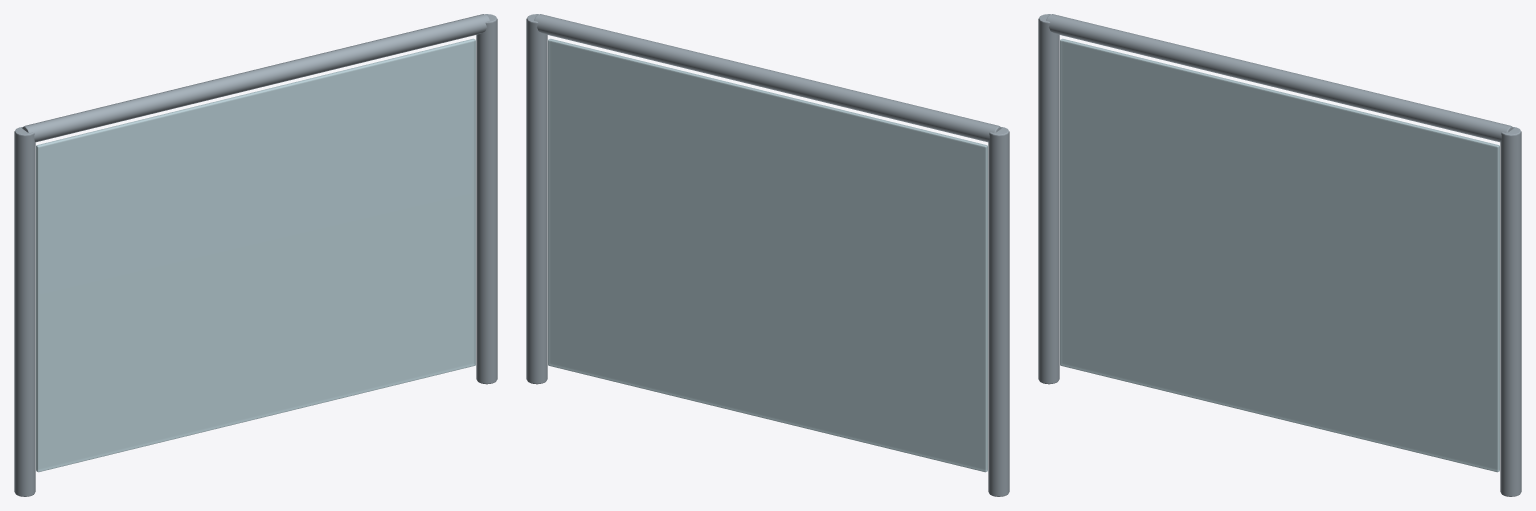
The model's file is fence_chainlink.glb.
3 views of the same model, side by side, from view 1: azimuth 30°, elevation 25°; view 2: azimuth 150°, elevation 25°; view 3: azimuth 330°, elevation 25° (orthographic).
Visible parts, largest first — view 1: fence_chainlink; view 2: fence_chainlink; view 3: fence_chainlink.
Boxes of the visible parts, <box> form: fence_chainlink: <box>14,14,497,496</box>; fence_chainlink: <box>526,14,1009,496</box>; fence_chainlink: <box>1038,14,1521,496</box>.
Bounding box in the file's own units: 2.08 × 1.51 × 0.08.
